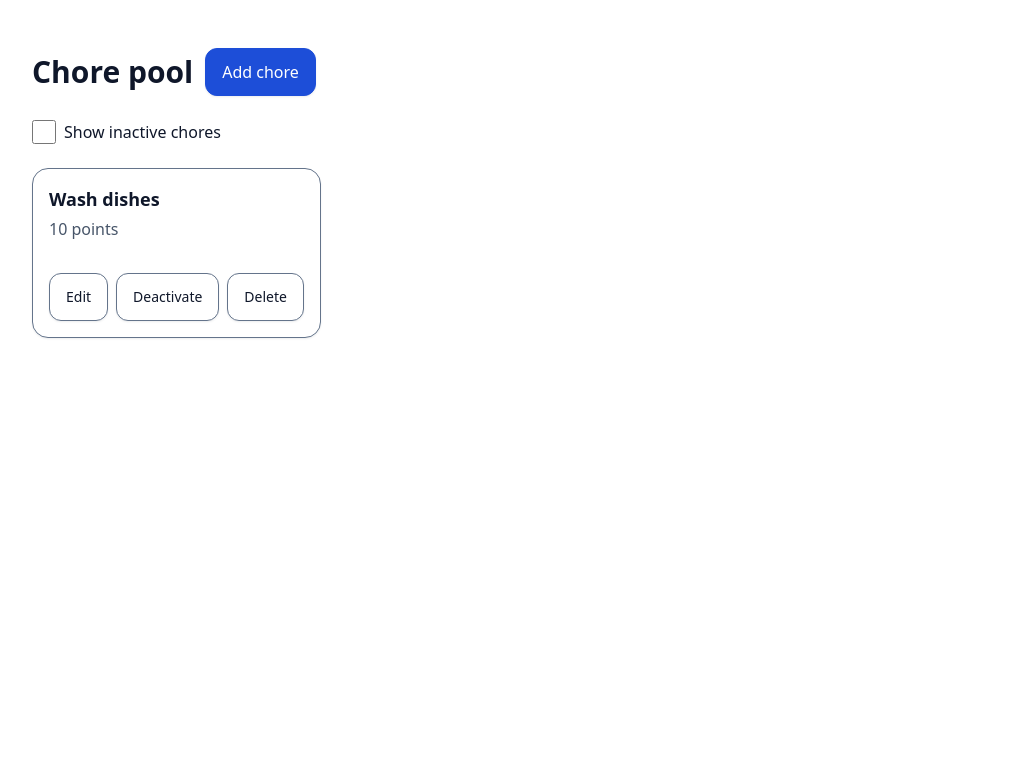
adding a chore › shows the server duplicate-name message on its own field, dialog stays open
Expected: the heading "Wash dishes" is shown, [49,187,160,211]
Click the button "Add chore" at (260, 72), box [205,48,316,96]
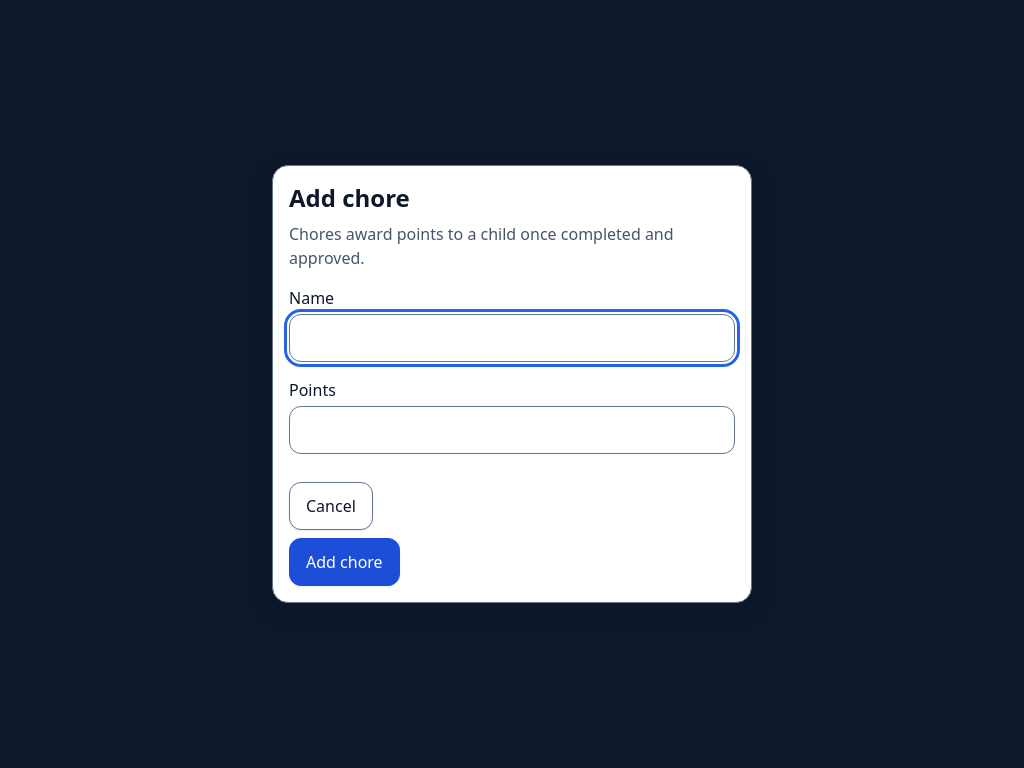
Type "Wash dishes" into the field labelled "Name" at (512, 338), box [289,314,735,362]
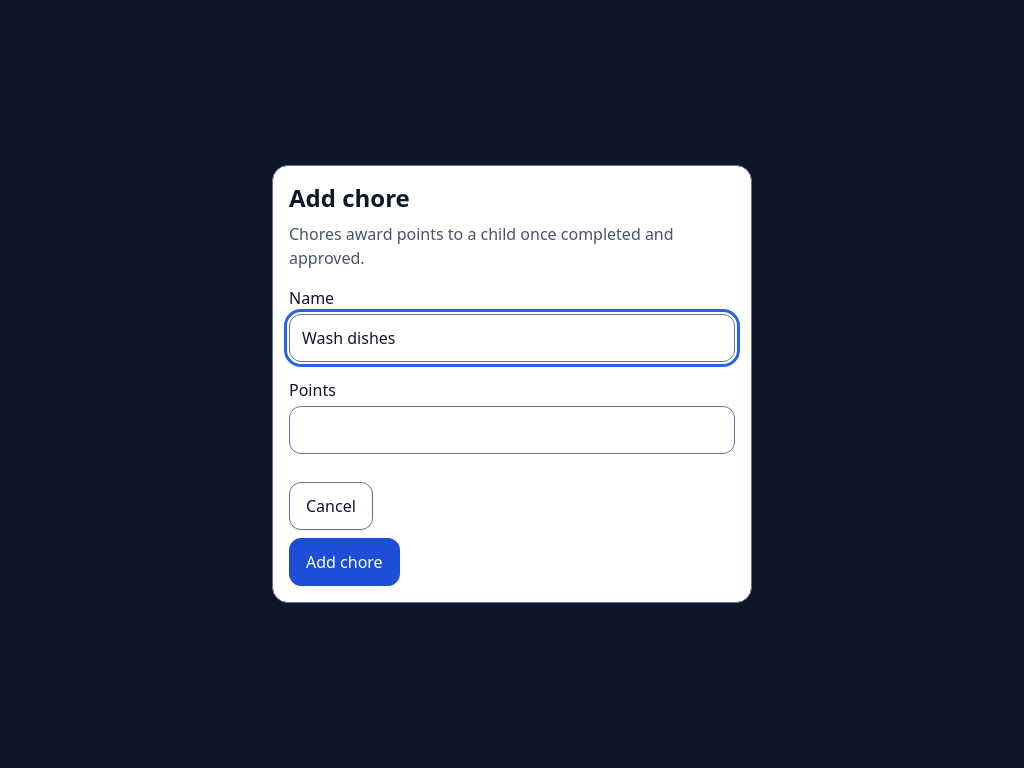
Type "4" into the field labelled "Points" at (512, 430), box [289,406,735,454]
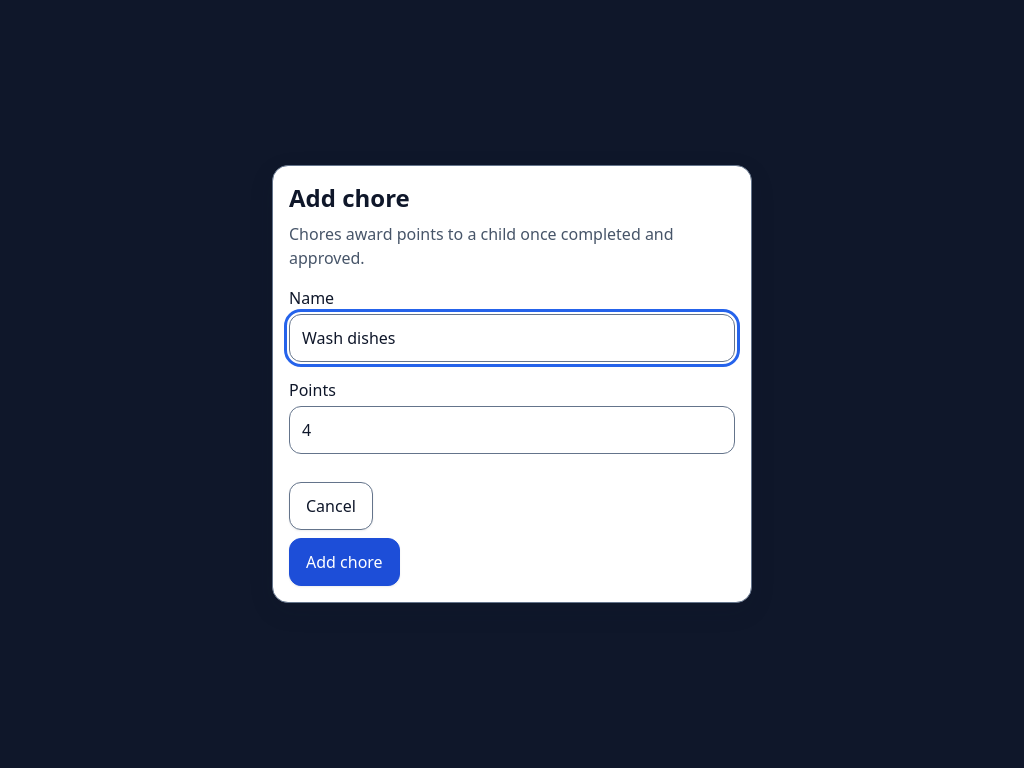
Click the button "Add chore" at (344, 562), box [289,538,400,586]
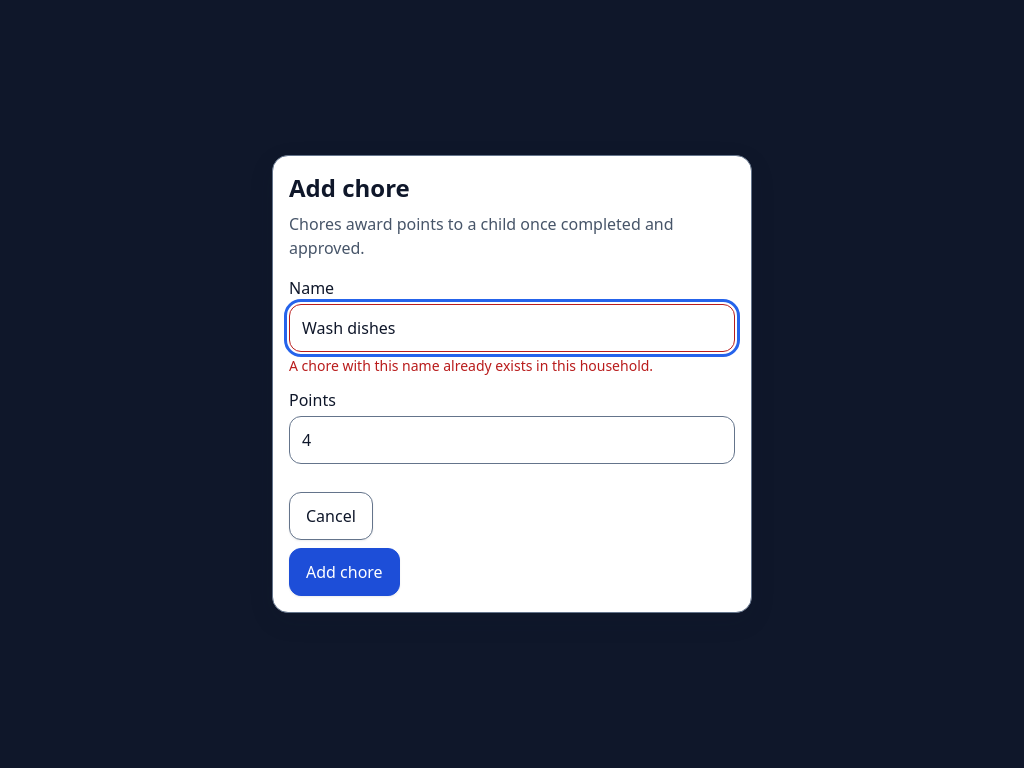
Result: the dialog is shown at [272,155,752,613]
Result: the text "A chore with this name already exists in this household." is shown at [289,356,653,375]
